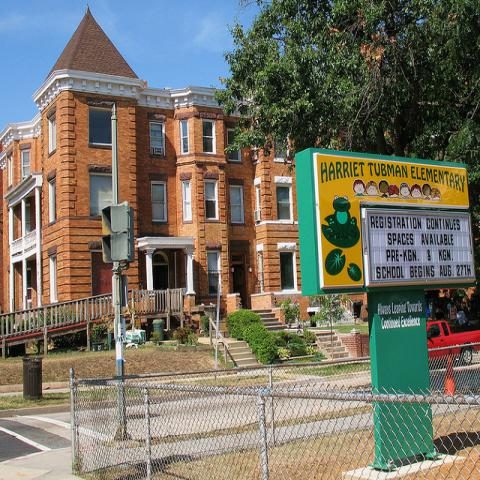truck: (426, 319, 479, 366)
